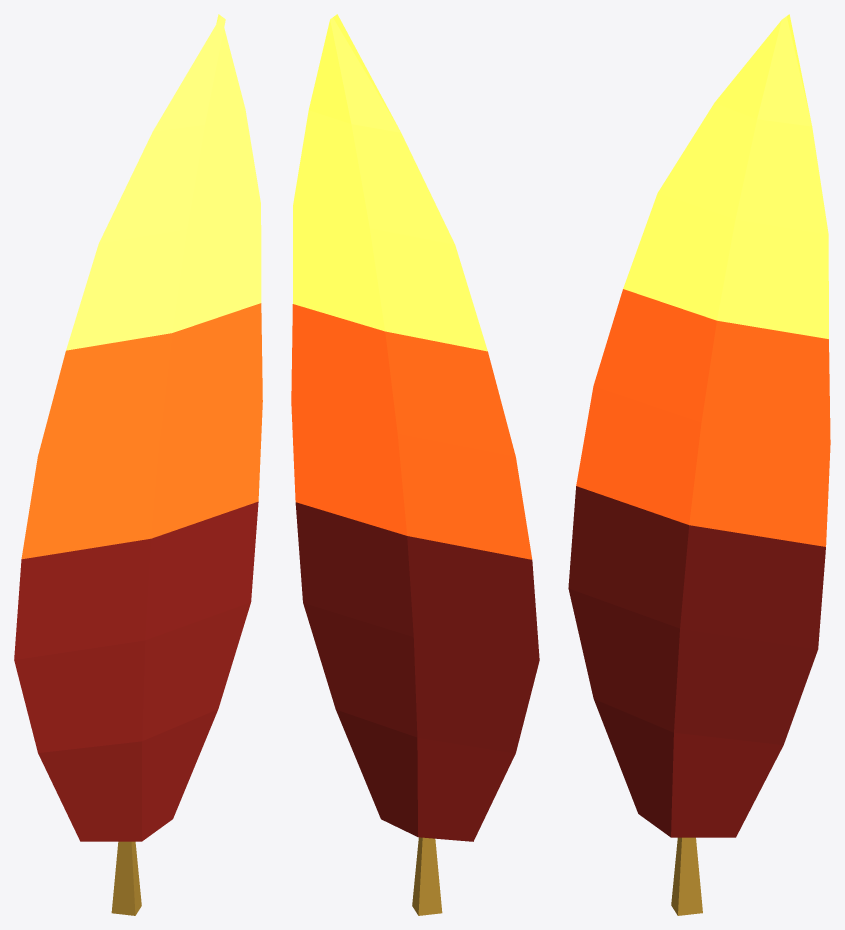
Rendered from Phoenix_Feather.fbx.
3 views of the same model, side by side, from view 1: azimuth 30°, elevation 25°; view 2: azimuth 150°, elevation 25°; view 3: azimuth 330°, elevation 25° (orthographic). The views are drawn at different scales.
Parts seen in each view (by area): view 1: Phoenix_Feather; view 2: Phoenix_Feather; view 3: Phoenix_Feather.
Boxes of the visible parts, x1=… form: Phoenix_Feather: x1=14, y1=14, x2=262, y2=915; Phoenix_Feather: x1=291, y1=14, x2=539, y2=915; Phoenix_Feather: x1=568, y1=14, x2=830, y2=915.
Bounding box in the file's own units: 0.1316 × 0.44 × 0.0224.
